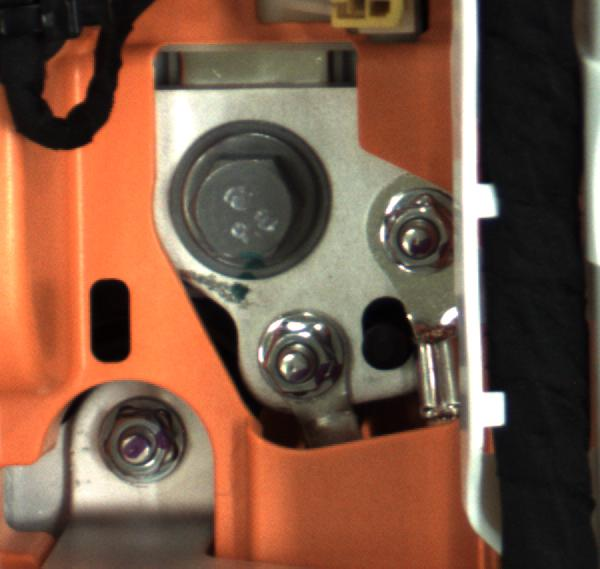nut_b: (154, 121, 332, 282)
screw_s: (94, 398, 195, 478), (264, 313, 336, 398), (373, 193, 446, 268)
